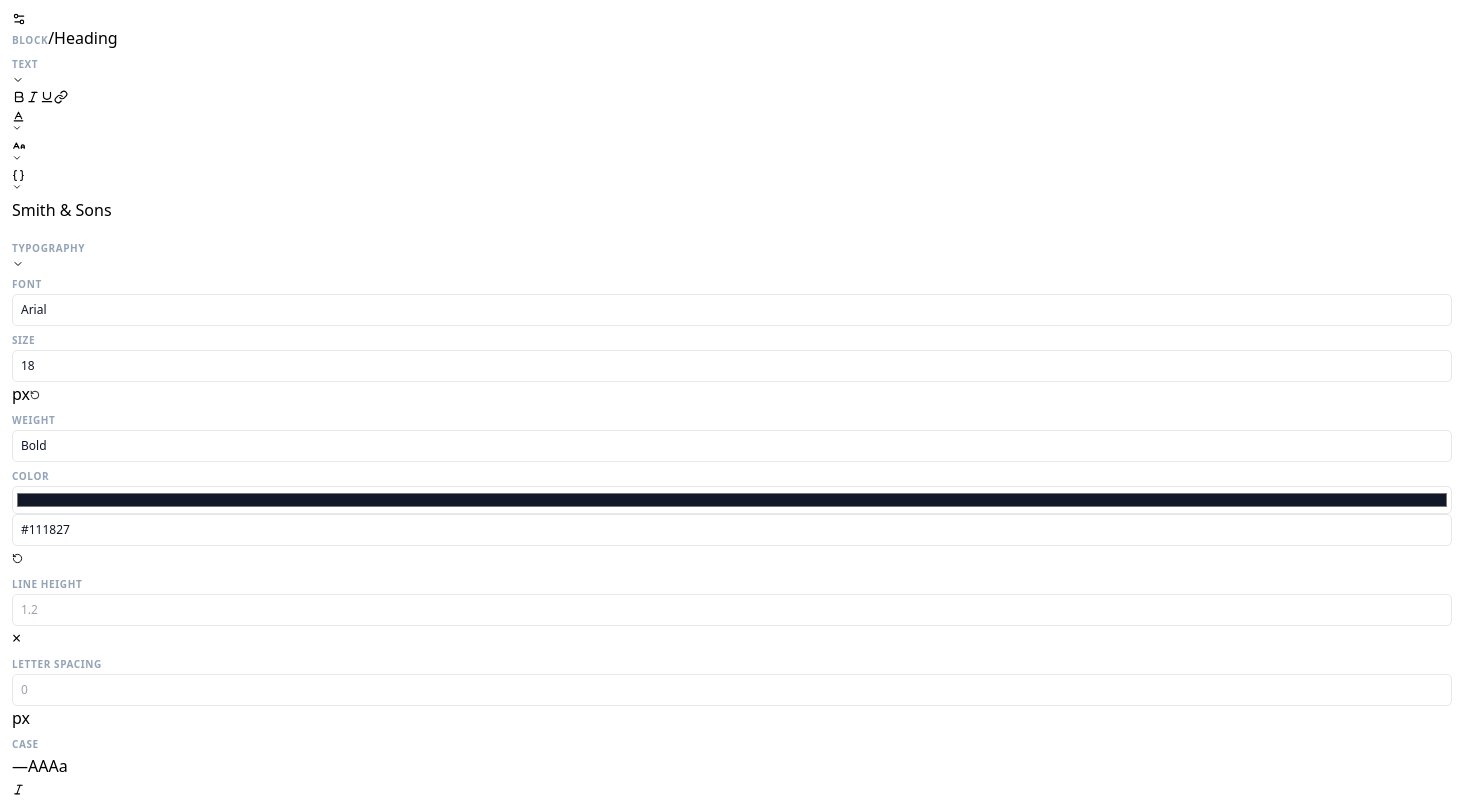
Test: Heading panel on a legacy (plain-text) heading › explains where to add fields when there are none
Click the button named "Insert field" at (18, 180), box [12,169,25,192]
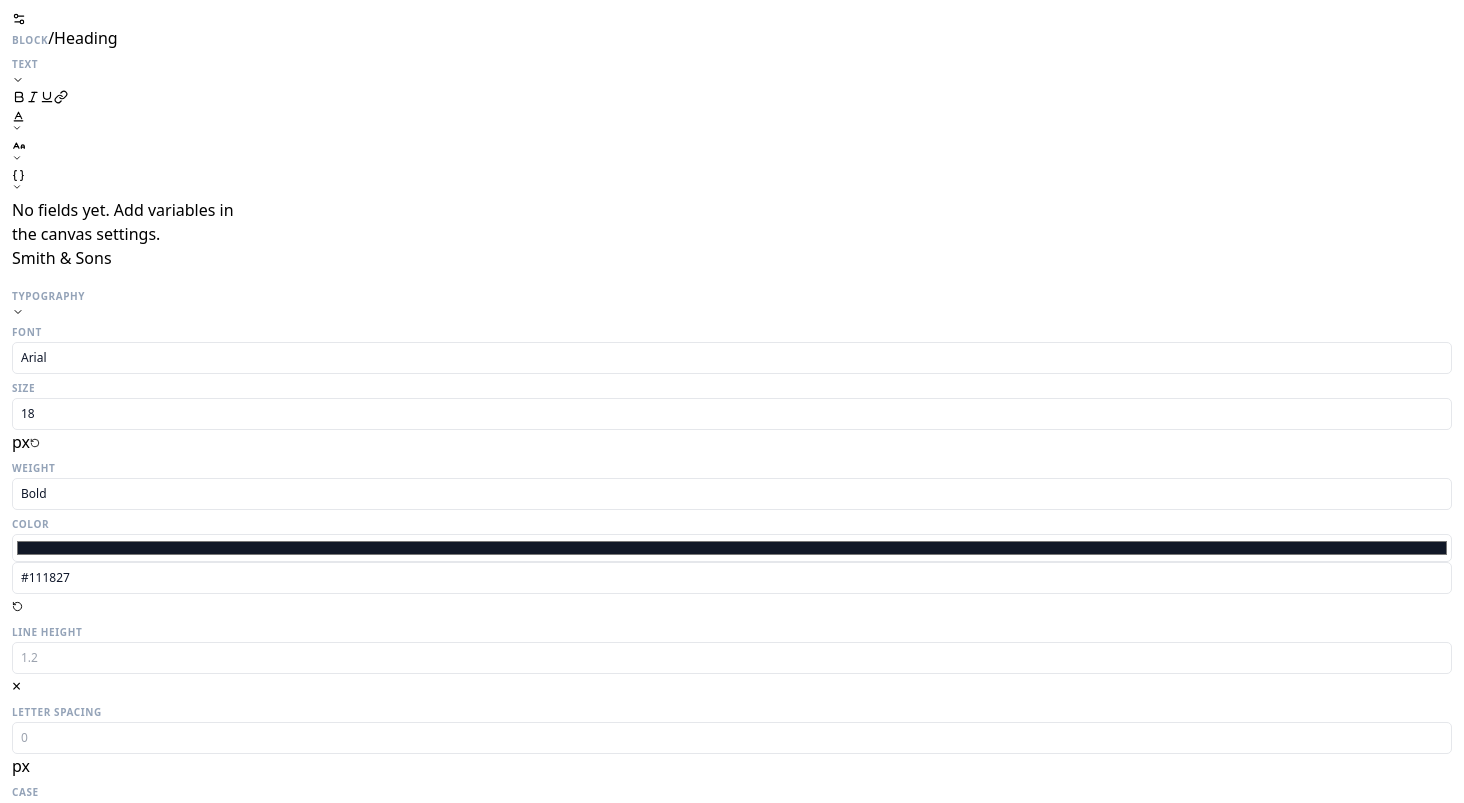
Expected: the text "No fields yet. Add variables in the canvas settings." is shown, [12,198,236,246]
